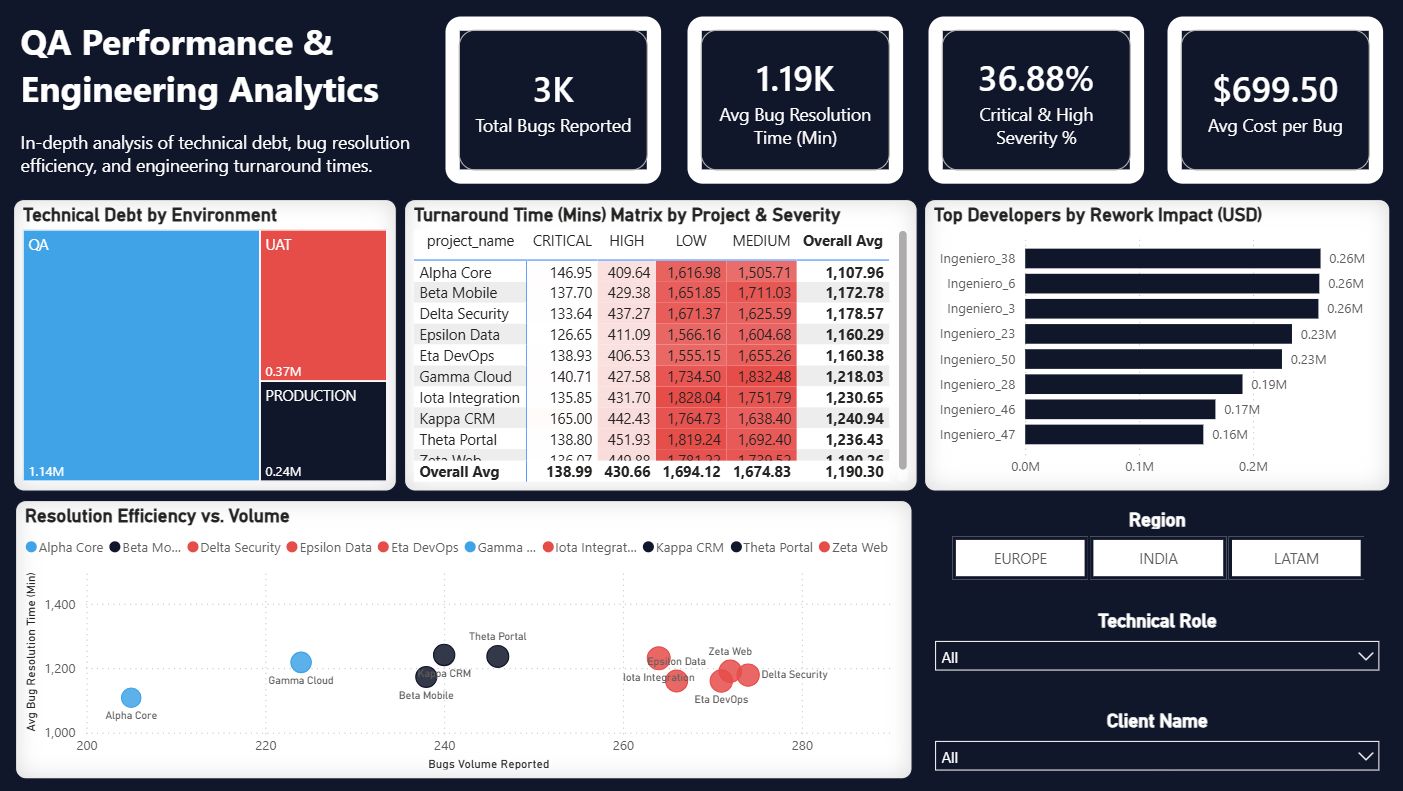

This screenshot's page, from the dashboard's own definition file:
{"tool":"powerbi","page":{"name":"QA Engineering & Ticket Analytics","canvas":[1280,720],"ordinal":1},"visuals":[{"type":"textbox","box":[15.6,10,386.7,162.2],"z":0},{"type":"cardVisual","fields":{"Data":["_Measures.Total Bugs Reported"]},"box":[402.2,10,206.7,162.2],"z":0,"group":"g2"},{"type":"treemap","title":"Technical Debt by Environment","fields":{"Group":["v_fact_bugs.environment_tier"],"Values":["_Measures.Rework Cost USD"]},"box":[13.9,181.1,348.9,265.6],"z":0,"group":"g1"},{"type":"cardVisual","fields":{"Data":["_Measures.Avg Bug Resolution Time (Min)"]},"box":[622.2,10,206.7,162.2],"z":1000,"group":"g2"},{"type":"pivotTable","title":"Turnaround Time (Mins) Matrix by Project & Severity","fields":{"Rows":["v_dim_projects.project_name"],"Columns":["v_fact_bugs.severity_level"],"Values":["_Measures.Avg Bug Resolution Time (Min)"]},"box":[369.6,181,466.7,265.6],"z":1000,"group":"g1"},{"type":"scatterChart","title":"Resolution Efficiency vs. Volume","fields":{"X":["_Measures.Total Bugs Reported"],"Y":["_Measures.Avg Bug Resolution Time (Min)"],"Size":["_Measures.Rework Cost USD"],"Series":["v_dim_projects.project_name"]},"box":[15.6,454.4,815.6,254.4],"z":1000},{"type":"cardVisual","fields":{"Data":["_Measures.Critical & High Severity %"]},"box":[841.1,10,206.7,162.2],"z":2000,"group":"g2"},{"type":"group","id":"g1","title":"Group 1","box":[13.9,181,1252.2,265.7],"z":2000},{"type":"barChart","title":"Top Developers by Rework Impact (USD)","fields":{"Y":["_Measures.Rework Cost USD"],"Category":["v_dim_employees.employee_name"]},"box":[841.7,181.1,424.4,265.6],"z":2000,"group":"g1"},{"type":"cardVisual","fields":{"Data":["_Measures.Avg Cost per Bug"]},"box":[1058.9,10,206.7,162.2],"z":3000,"group":"g2"},{"type":"slicer","title":"Region","fields":{"Values":["v_dim_employees.offshore_region"]},"box":[842.2,462.2,424.4,72.2],"z":3000},{"type":"slicer","title":"Technical Role","fields":{"Values":["v_dim_employees.technical_role"]},"box":[842.2,553.3,424.4,77.8],"z":4000},{"type":"slicer","title":"Client Name","fields":{"Values":["v_dim_projects.client_name"]},"box":[842.2,644.4,424.4,64.4],"z":5000},{"type":"group","id":"g2","title":"Group 2","box":[402.2,10,864.4,162.2],"z":5005}]}

Visuals, with their boxes in screenshot pixels (x1, y1, x2, y2), scaled from the page's 1280x720 canvas onto the 1403x791 screenshot:
textbox: region(17, 11, 441, 189)
cardVisual - _Measures.Total Bugs Reported: region(441, 11, 667, 189)
"Technical Debt by Environment" treemap: region(15, 199, 398, 491)
cardVisual - _Measures.Avg Bug Resolution Time (Min): region(682, 11, 909, 189)
"Turnaround Time (Mins) Matrix by Project & Severity" pivotTable: region(405, 199, 917, 491)
"Resolution Efficiency vs. Volume" scatterChart: region(17, 499, 911, 779)
cardVisual - _Measures.Critical & High Severity %: region(922, 11, 1148, 189)
"Group 1" group: region(15, 199, 1388, 491)
"Top Developers by Rework Impact (USD)" barChart: region(923, 199, 1388, 491)
cardVisual - _Measures.Avg Cost per Bug: region(1161, 11, 1387, 189)
"Region" slicer: region(923, 508, 1388, 587)
"Technical Role" slicer: region(923, 608, 1388, 693)
"Client Name" slicer: region(923, 708, 1388, 779)
"Group 2" group: region(441, 11, 1388, 189)
